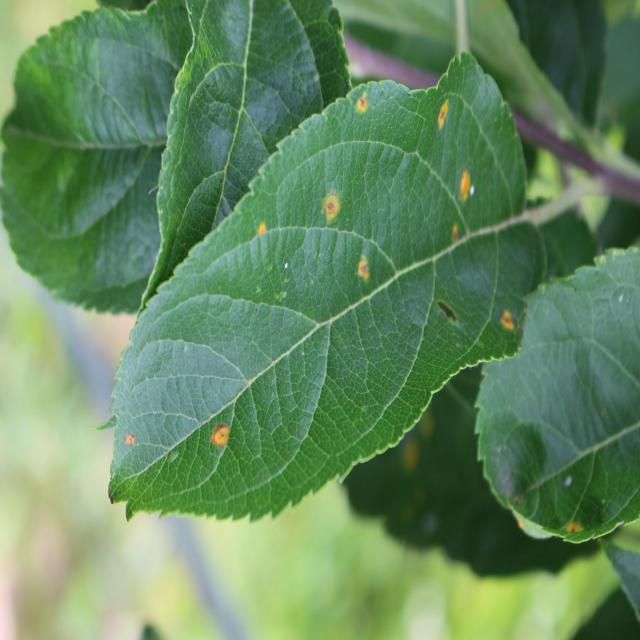Rust: (207, 419, 234, 450), (321, 193, 343, 230), (399, 440, 418, 478), (354, 250, 372, 290), (497, 302, 517, 338), (564, 513, 584, 547), (437, 94, 452, 136), (446, 224, 465, 249), (356, 91, 372, 120), (460, 169, 472, 204), (121, 430, 137, 453), (516, 510, 527, 536), (256, 219, 268, 239)
